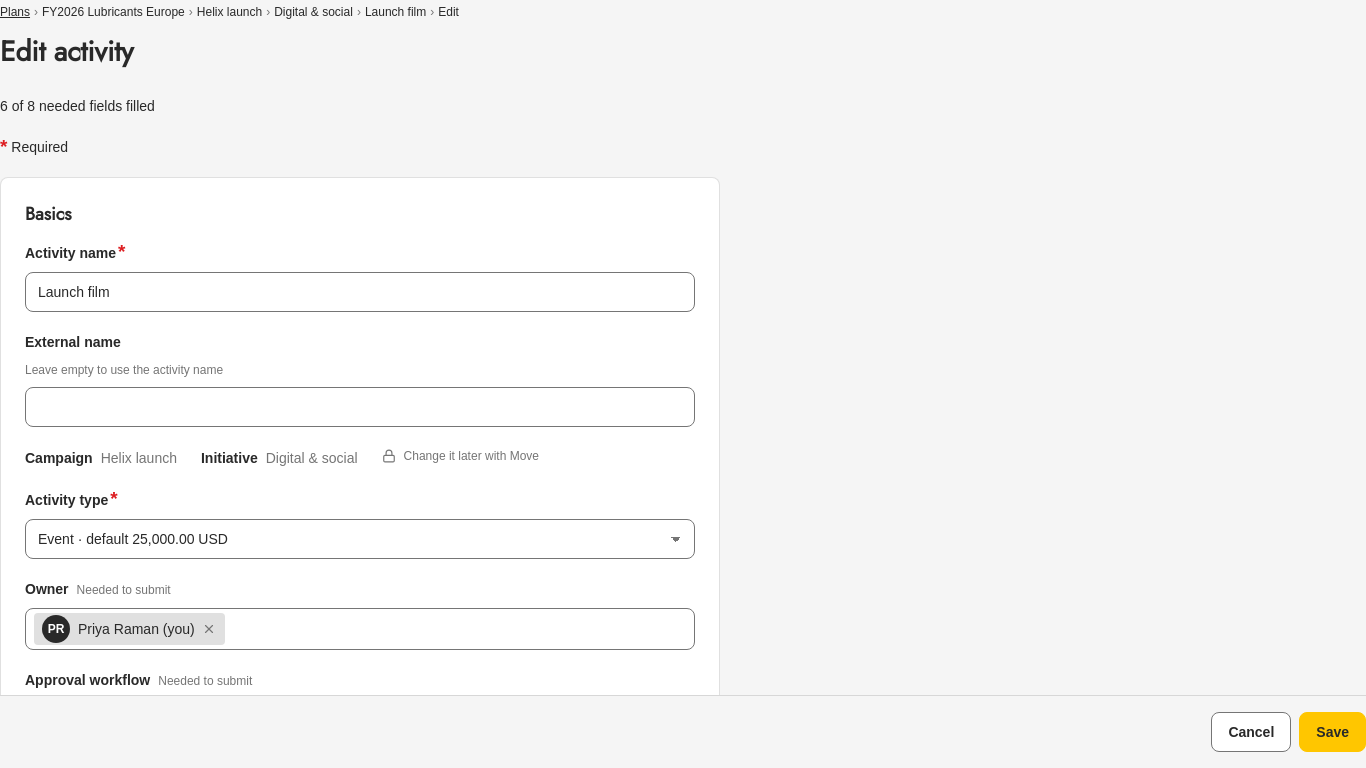
Scenario: ActivityFormPage, edit (feature 006, US4) › asks whether a new type should bring its default planned cost (FR-007)
Select "Digital campaign · default 10,000.00 USD" in the dropdown labelled "Activity type": (360, 539) [25, 519, 695, 559]
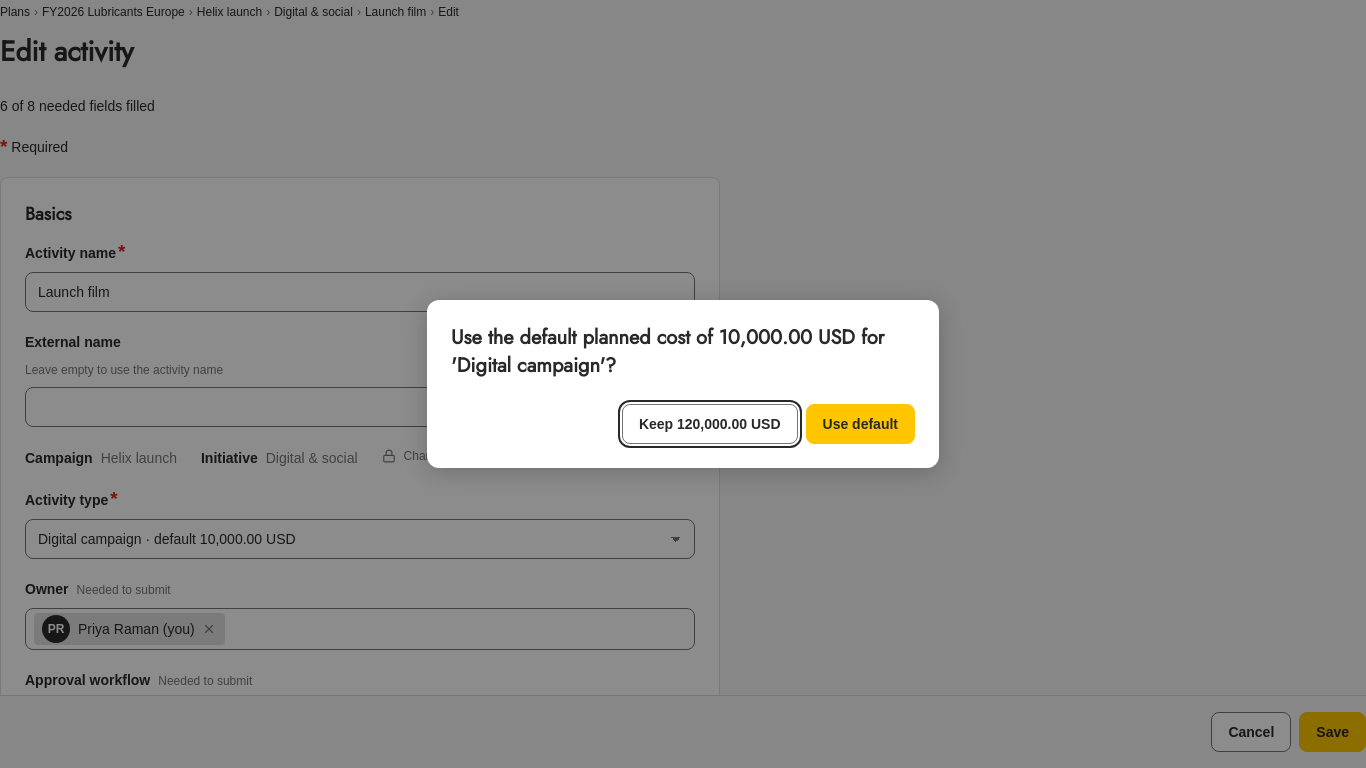
Click the button "Keep 120,000.00 USD": (710, 424) [622, 404, 798, 444]
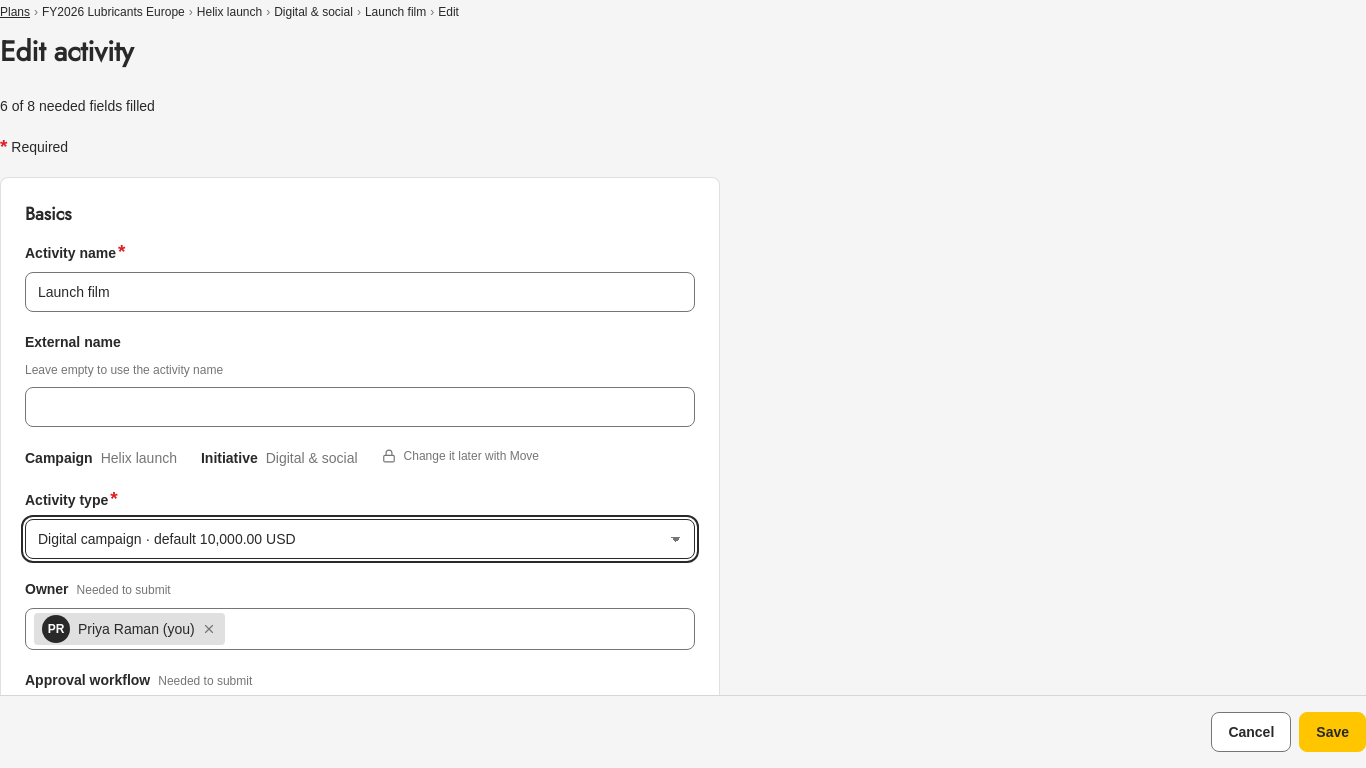
Select "Event · default 25,000.00 USD" in the dropdown labelled "Activity type": (360, 539) [25, 519, 695, 559]
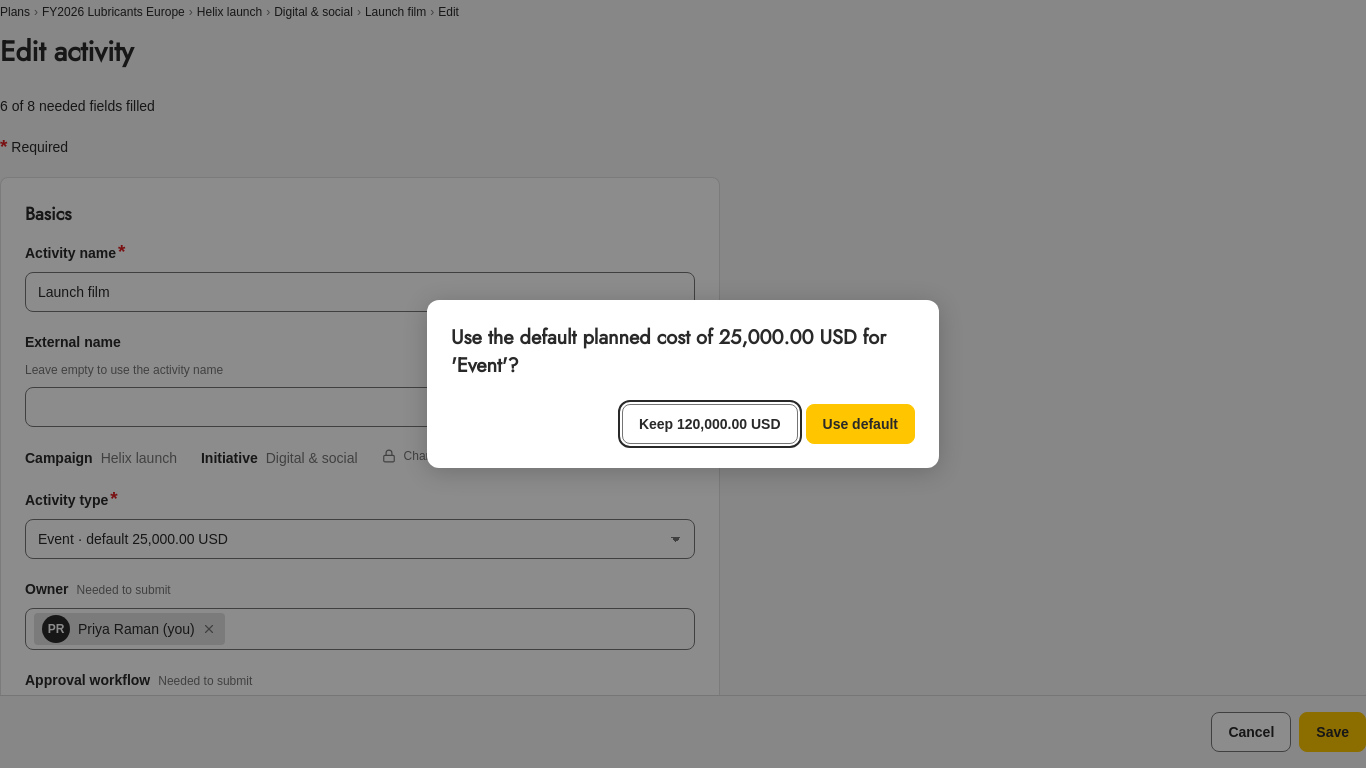
Click the button "Use default": (860, 424) [806, 404, 915, 444]
(page scrolled)
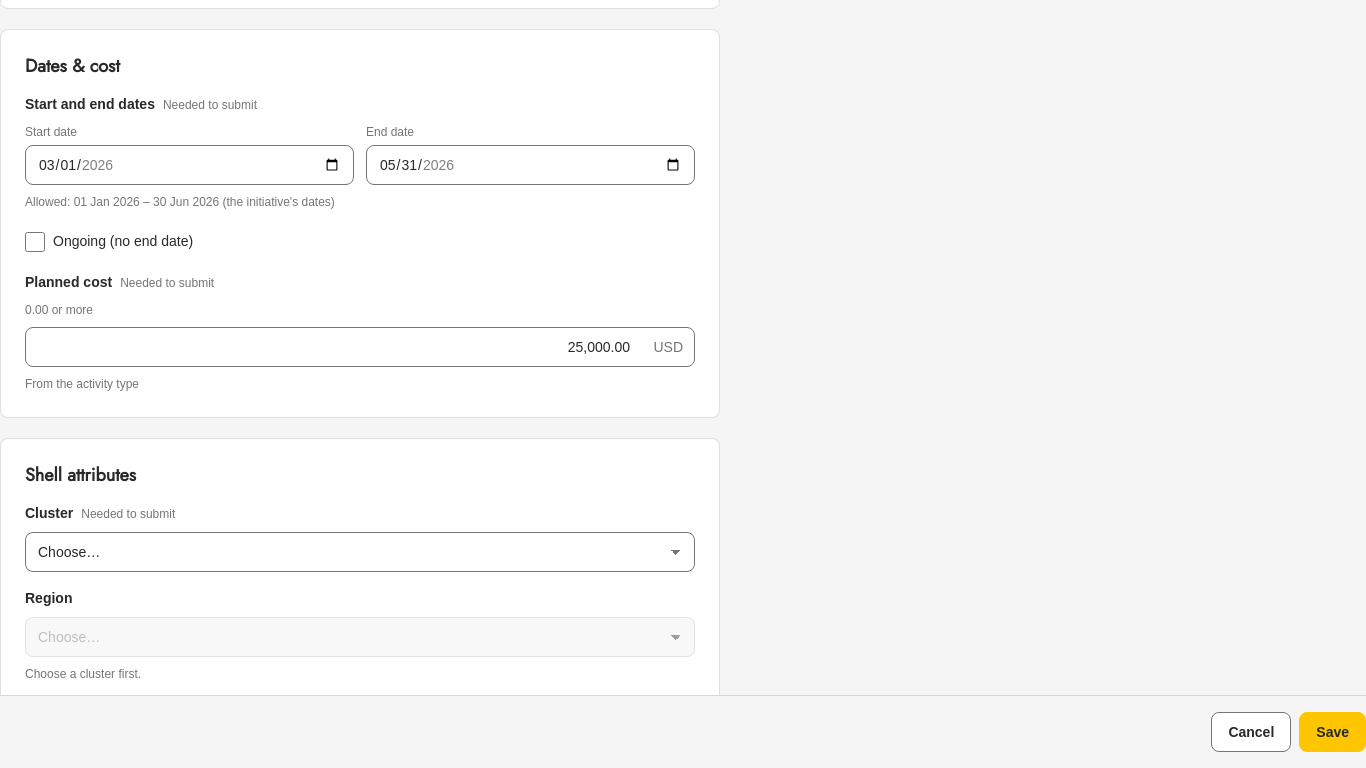
Result: the field labelled "Planned cost" holds "25,000.00" at [25, 327, 695, 367]
Result: the text "From the activity type" is shown at [25, 377, 139, 391]
